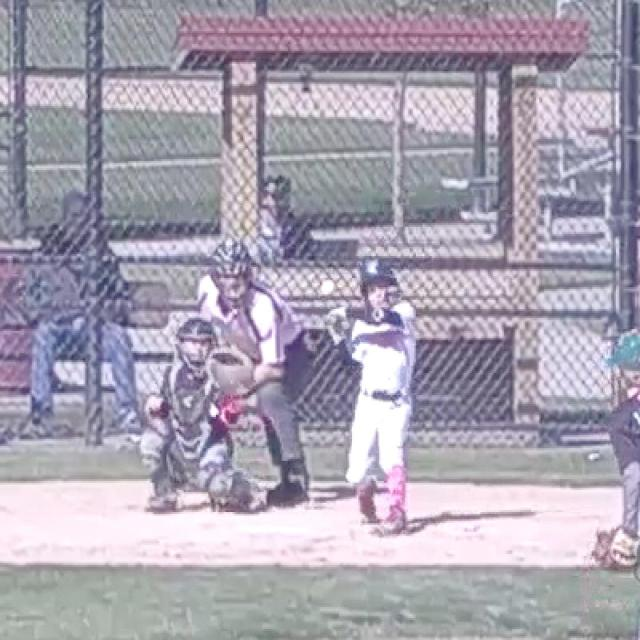baseball: (321, 279, 335, 295)
